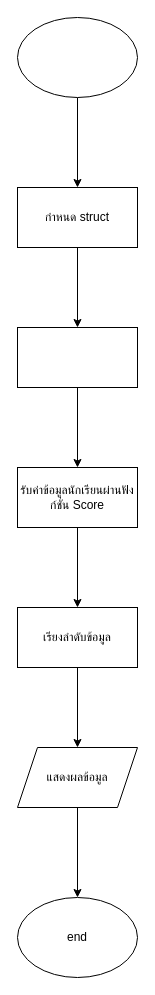
This 155x995 diagram has some shape labels left out. The box of each missing label's shape, as (x1, y1, x2, y2) in pixels:
start: (16, 16, 138, 98)
สร้างโปรโตไทป์: (16, 326, 138, 388)
